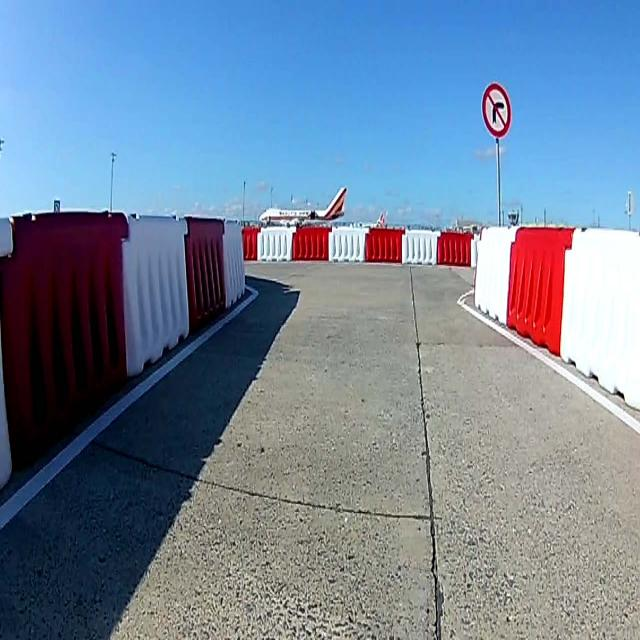sagadonulmez: (483, 84, 511, 137)
